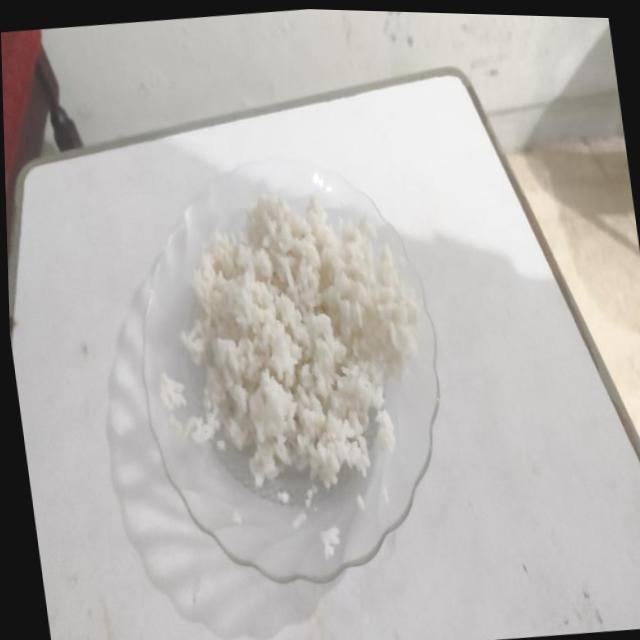nasi_putih: (173, 194, 417, 488)
